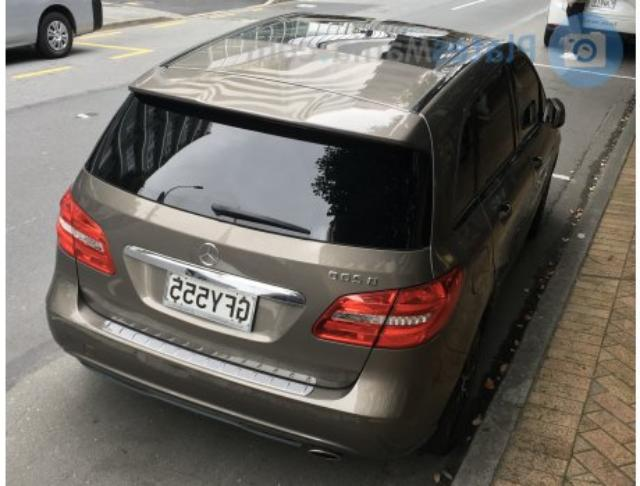Rego: (163, 273, 257, 334)
